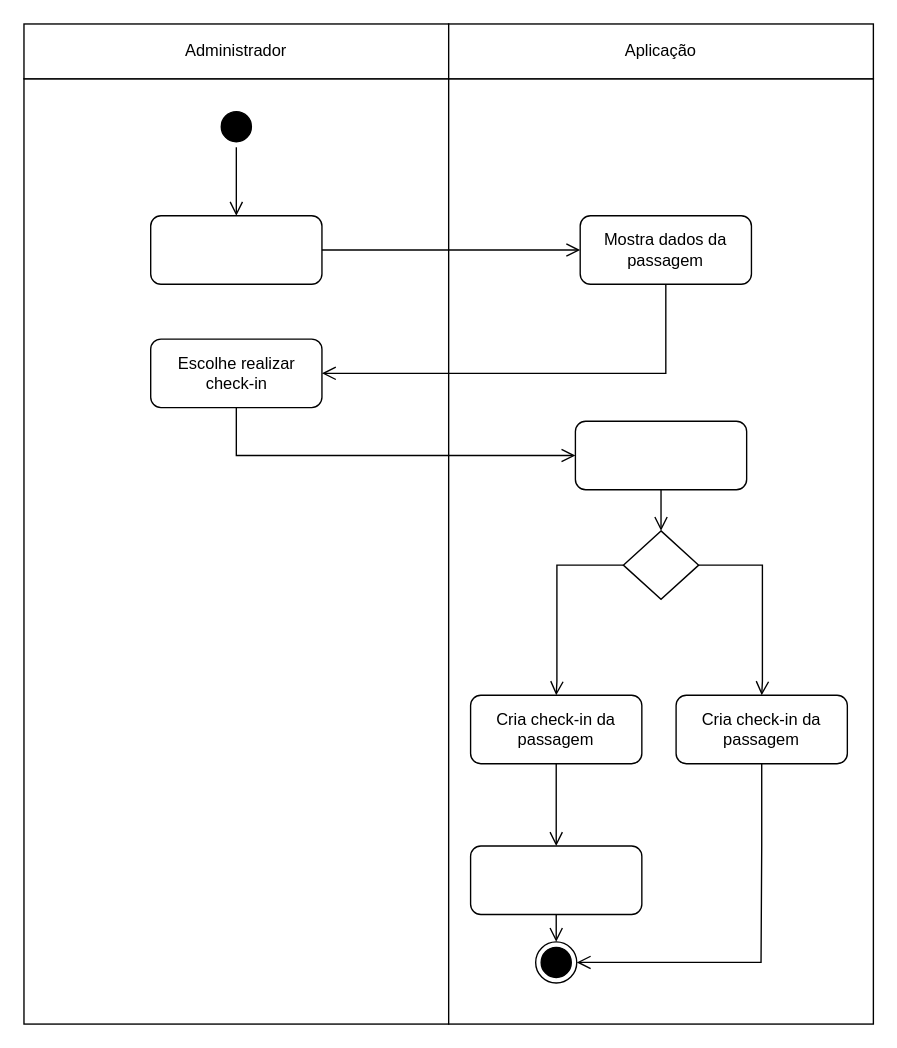
Some shapes in this 897 by 1048 pixel diagram are drawn without their labels. Each missing label, with the centre of its shape:
"Entra na tela de ver passagem" belongs at (x=235, y=249).
"Informa que o check-in foi realizado com sucesso" belongs at (x=555, y=879).
"Verifica se faltam menos de 24 horas para o voo" belongs at (x=660, y=455).
